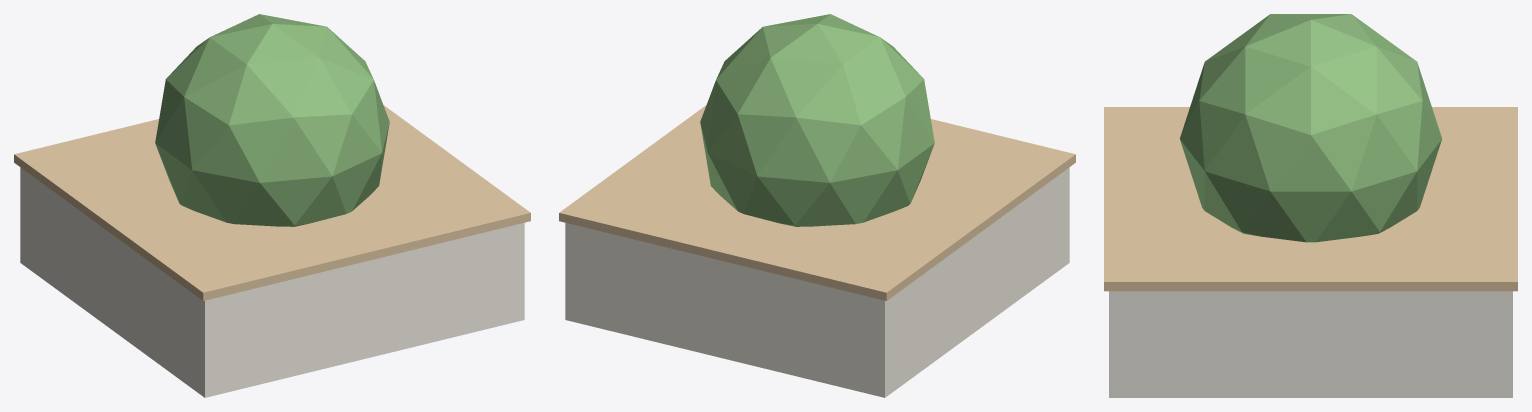
Rendered from Planter.fbx.
3 views of the same model, side by side, from view 1: azimuth 30°, elevation 25°; view 2: azimuth 150°, elevation 25°; view 3: azimuth 270°, elevation 25° (orthographic). The views are drawn at different scales.
Parts seen in each view (by area): view 1: Planter_ConcreteBox, Planter_Bush, Planter_TimberRim; view 2: Planter_ConcreteBox, Planter_Bush, Planter_TimberRim; view 3: Planter_Bush, Planter_TimberRim, Planter_ConcreteBox.
Boxes of the visible parts, box(x1,y1,x2,y2) form: Planter_ConcreteBox: box(20, 167, 524, 397); Planter_Bush: box(155, 14, 389, 226); Planter_TimberRim: box(14, 105, 530, 300); Planter_ConcreteBox: box(565, 167, 1069, 397); Planter_Bush: box(700, 14, 934, 226); Planter_TimberRim: box(559, 105, 1075, 300); Planter_Bush: box(1180, 14, 1441, 242); Planter_TimberRim: box(1104, 107, 1517, 291); Planter_ConcreteBox: box(1109, 291, 1512, 397).
Size of the model in its own units: 205 by 160 by 205.
